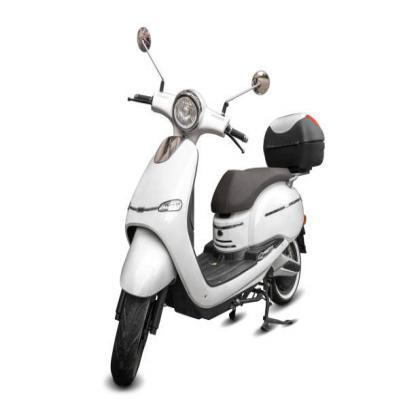Motorcycle: (102, 17, 330, 394)
